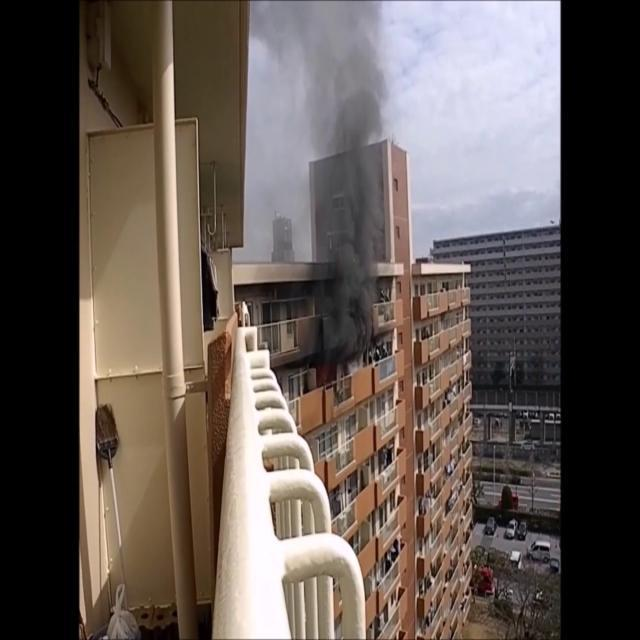Smoke: (304, 4, 388, 357)
